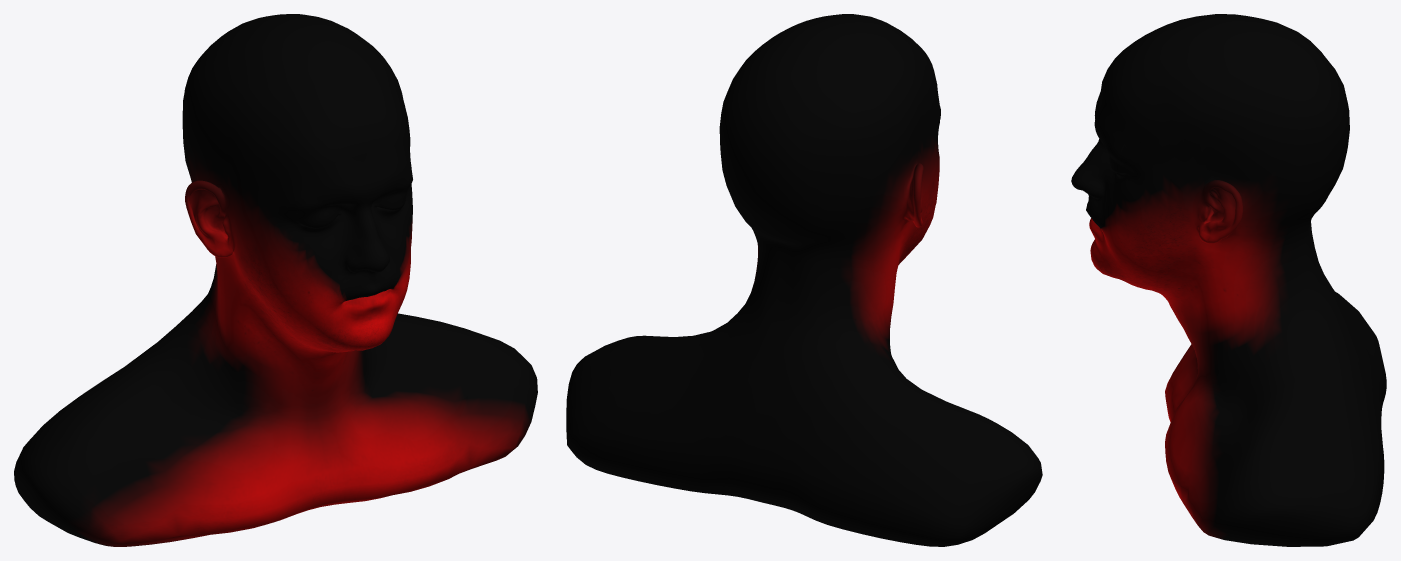
File: kopf.glb
3 renders of one model, left to right at view 1: azimuth 30°, elevation 25°; view 2: azimuth 150°, elevation 25°; view 3: azimuth 270°, elevation 25°, orthographic. The views are drawn at different scales.
Visible parts, largest first — view 1: kopf; view 2: kopf; view 3: kopf.
Part boxes in pixels (box(x1,y1,x2,y2)): kopf: box(14, 14, 537, 546); kopf: box(566, 14, 1042, 546); kopf: box(1071, 14, 1386, 546).
Bounding box in the file's own units: 398 × 370 × 241.
1 material, 1 textured.
